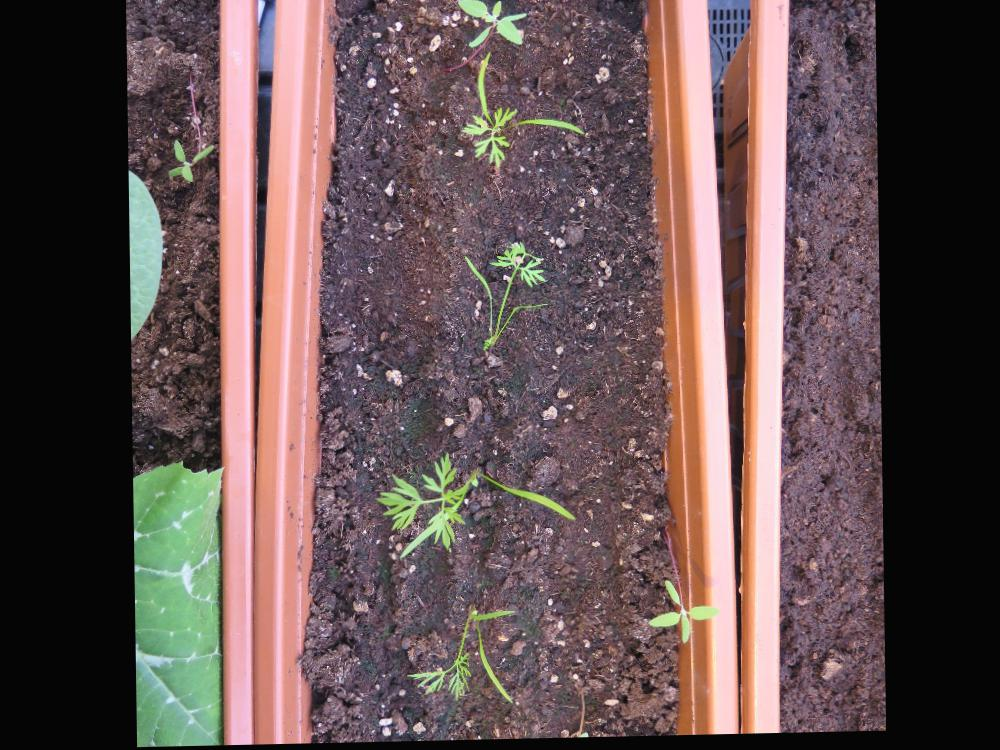crop: (371, 450, 582, 562), (457, 52, 588, 172), (403, 606, 514, 708), (458, 239, 551, 357)
weed: (645, 580, 721, 648), (455, 0, 535, 49), (166, 137, 217, 183)
